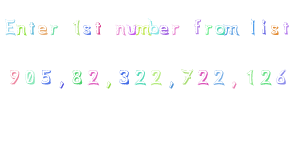,: (227, 76, 241, 94), (164, 77, 179, 93), (55, 79, 71, 92), (102, 80, 116, 92)
0: (24, 69, 37, 87)
1: (243, 65, 258, 89), (70, 17, 81, 38)
2: (132, 67, 149, 90), (196, 66, 211, 92), (257, 64, 273, 88), (85, 66, 102, 88), (149, 67, 164, 89), (213, 66, 225, 88)
3: (116, 69, 131, 87)
5: (38, 66, 54, 88)
6: (275, 61, 290, 90)
7: (179, 63, 194, 89)
8: (69, 67, 84, 88)
9: (6, 68, 22, 86)
E: (1, 14, 16, 37)
b: (149, 16, 160, 38)
e: (159, 21, 170, 39), (37, 23, 48, 39)
f: (190, 14, 201, 38)
i: (258, 19, 269, 37)
l: (246, 14, 259, 39)
m: (224, 21, 243, 39), (137, 19, 148, 40)
n: (111, 21, 125, 38), (16, 18, 25, 40)
o: (215, 23, 225, 36)
r: (50, 23, 63, 39), (201, 21, 214, 37), (169, 19, 180, 37)
s: (270, 21, 281, 39), (82, 22, 94, 38)
t: (281, 17, 295, 39), (27, 16, 37, 38), (94, 14, 103, 36)
u: (126, 20, 138, 39)
